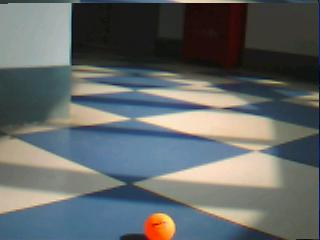oball: (145, 210, 175, 240)
